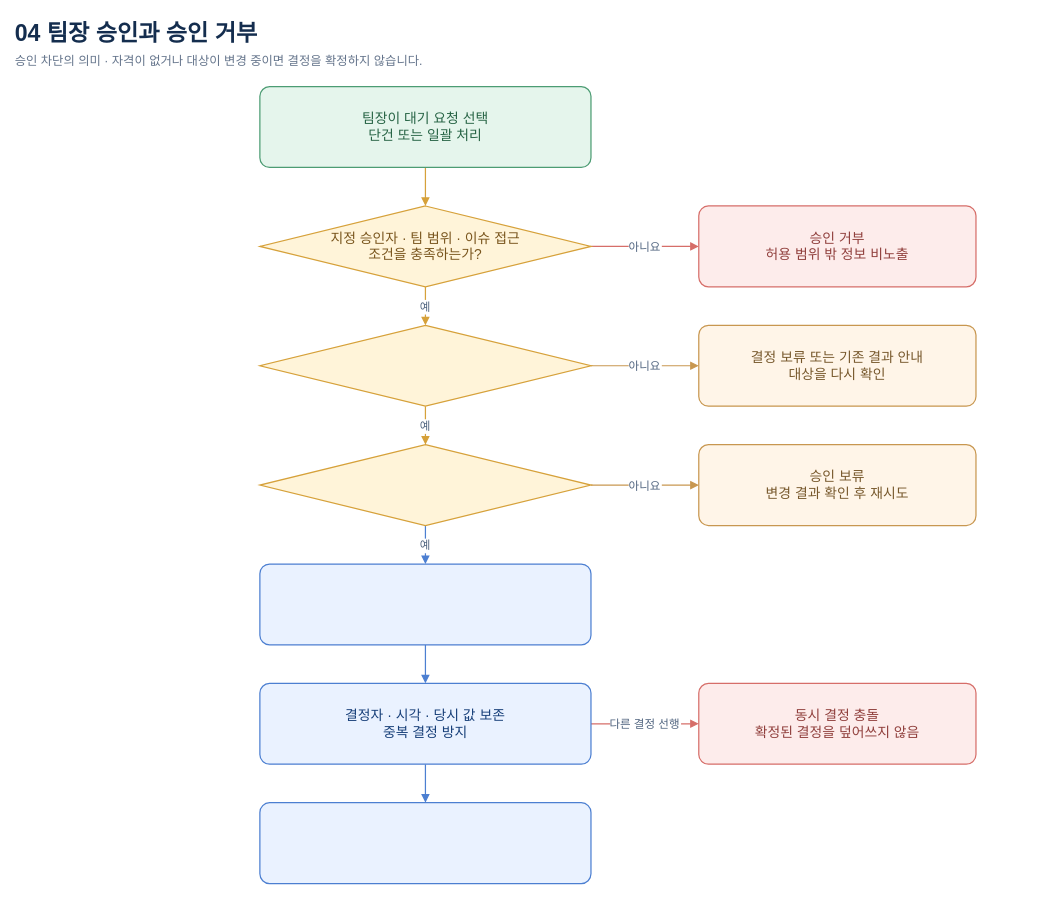
Image size: 1043x897. Some labels were removed from this diagram. The shapes that lost their labels are listed below. From the top down, each one's centre as x and y in pixels, then its label:
At point (425, 365): "아직 미결정이며 대상 기록이 유효한가?".
At point (425, 485): "변경 작업이나 결과 확인이 진행 중이지 않은가?".
At point (425, 604): "팀장이 승인 또는 반려 선택 일괄 요청도 건별 확인".
At point (425, 843): "승인: 잠금 적용 · 결과 전달 반려: 사유 및 결과 안내".
